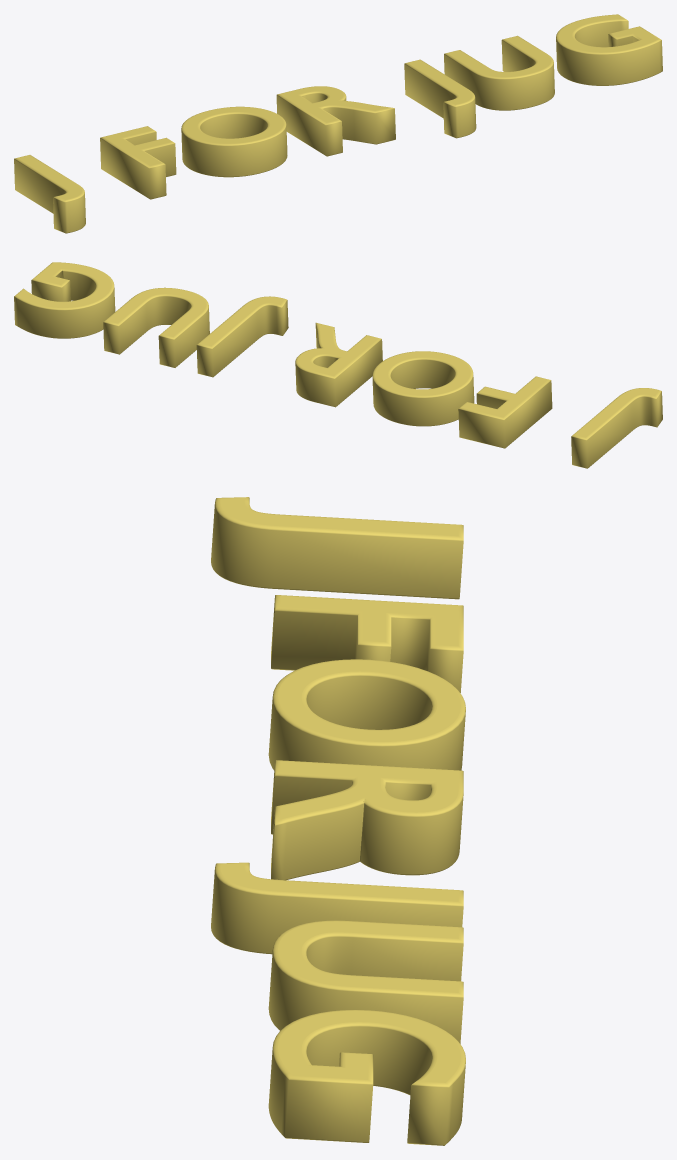
Rendered from JUG.fbx.
3 views of the same model, one above another, from view 1: azimuth 30°, elevation 25°; view 2: azimuth 150°, elevation 25°; view 3: azimuth 270°, elevation 25° (orthographic). The views are drawn at different scales.
Visible parts, largest first — view 1: Text.002; view 2: Text.002; view 3: Text.002.
Part boxes in pixels (x1,y1,x2,y2): Text.002: (14,14,662,233); Text.002: (14,262,662,468); Text.002: (211,497,465,1145).
Bounding box in the file's own units: 524 × 31.84 × 97.43.
